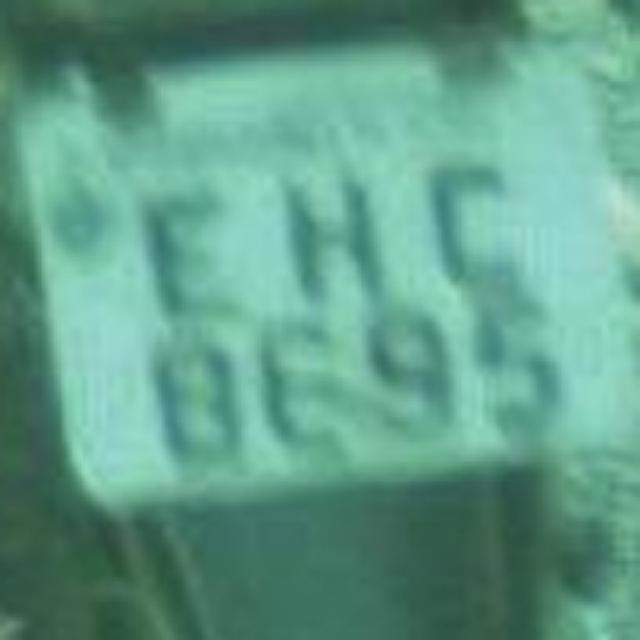5: (452, 280, 576, 445), (240, 304, 360, 464)
8: (136, 316, 252, 489)
9: (344, 284, 456, 448)
E: (140, 168, 248, 324)
N: (271, 148, 404, 312)
Z: (420, 148, 545, 328)
